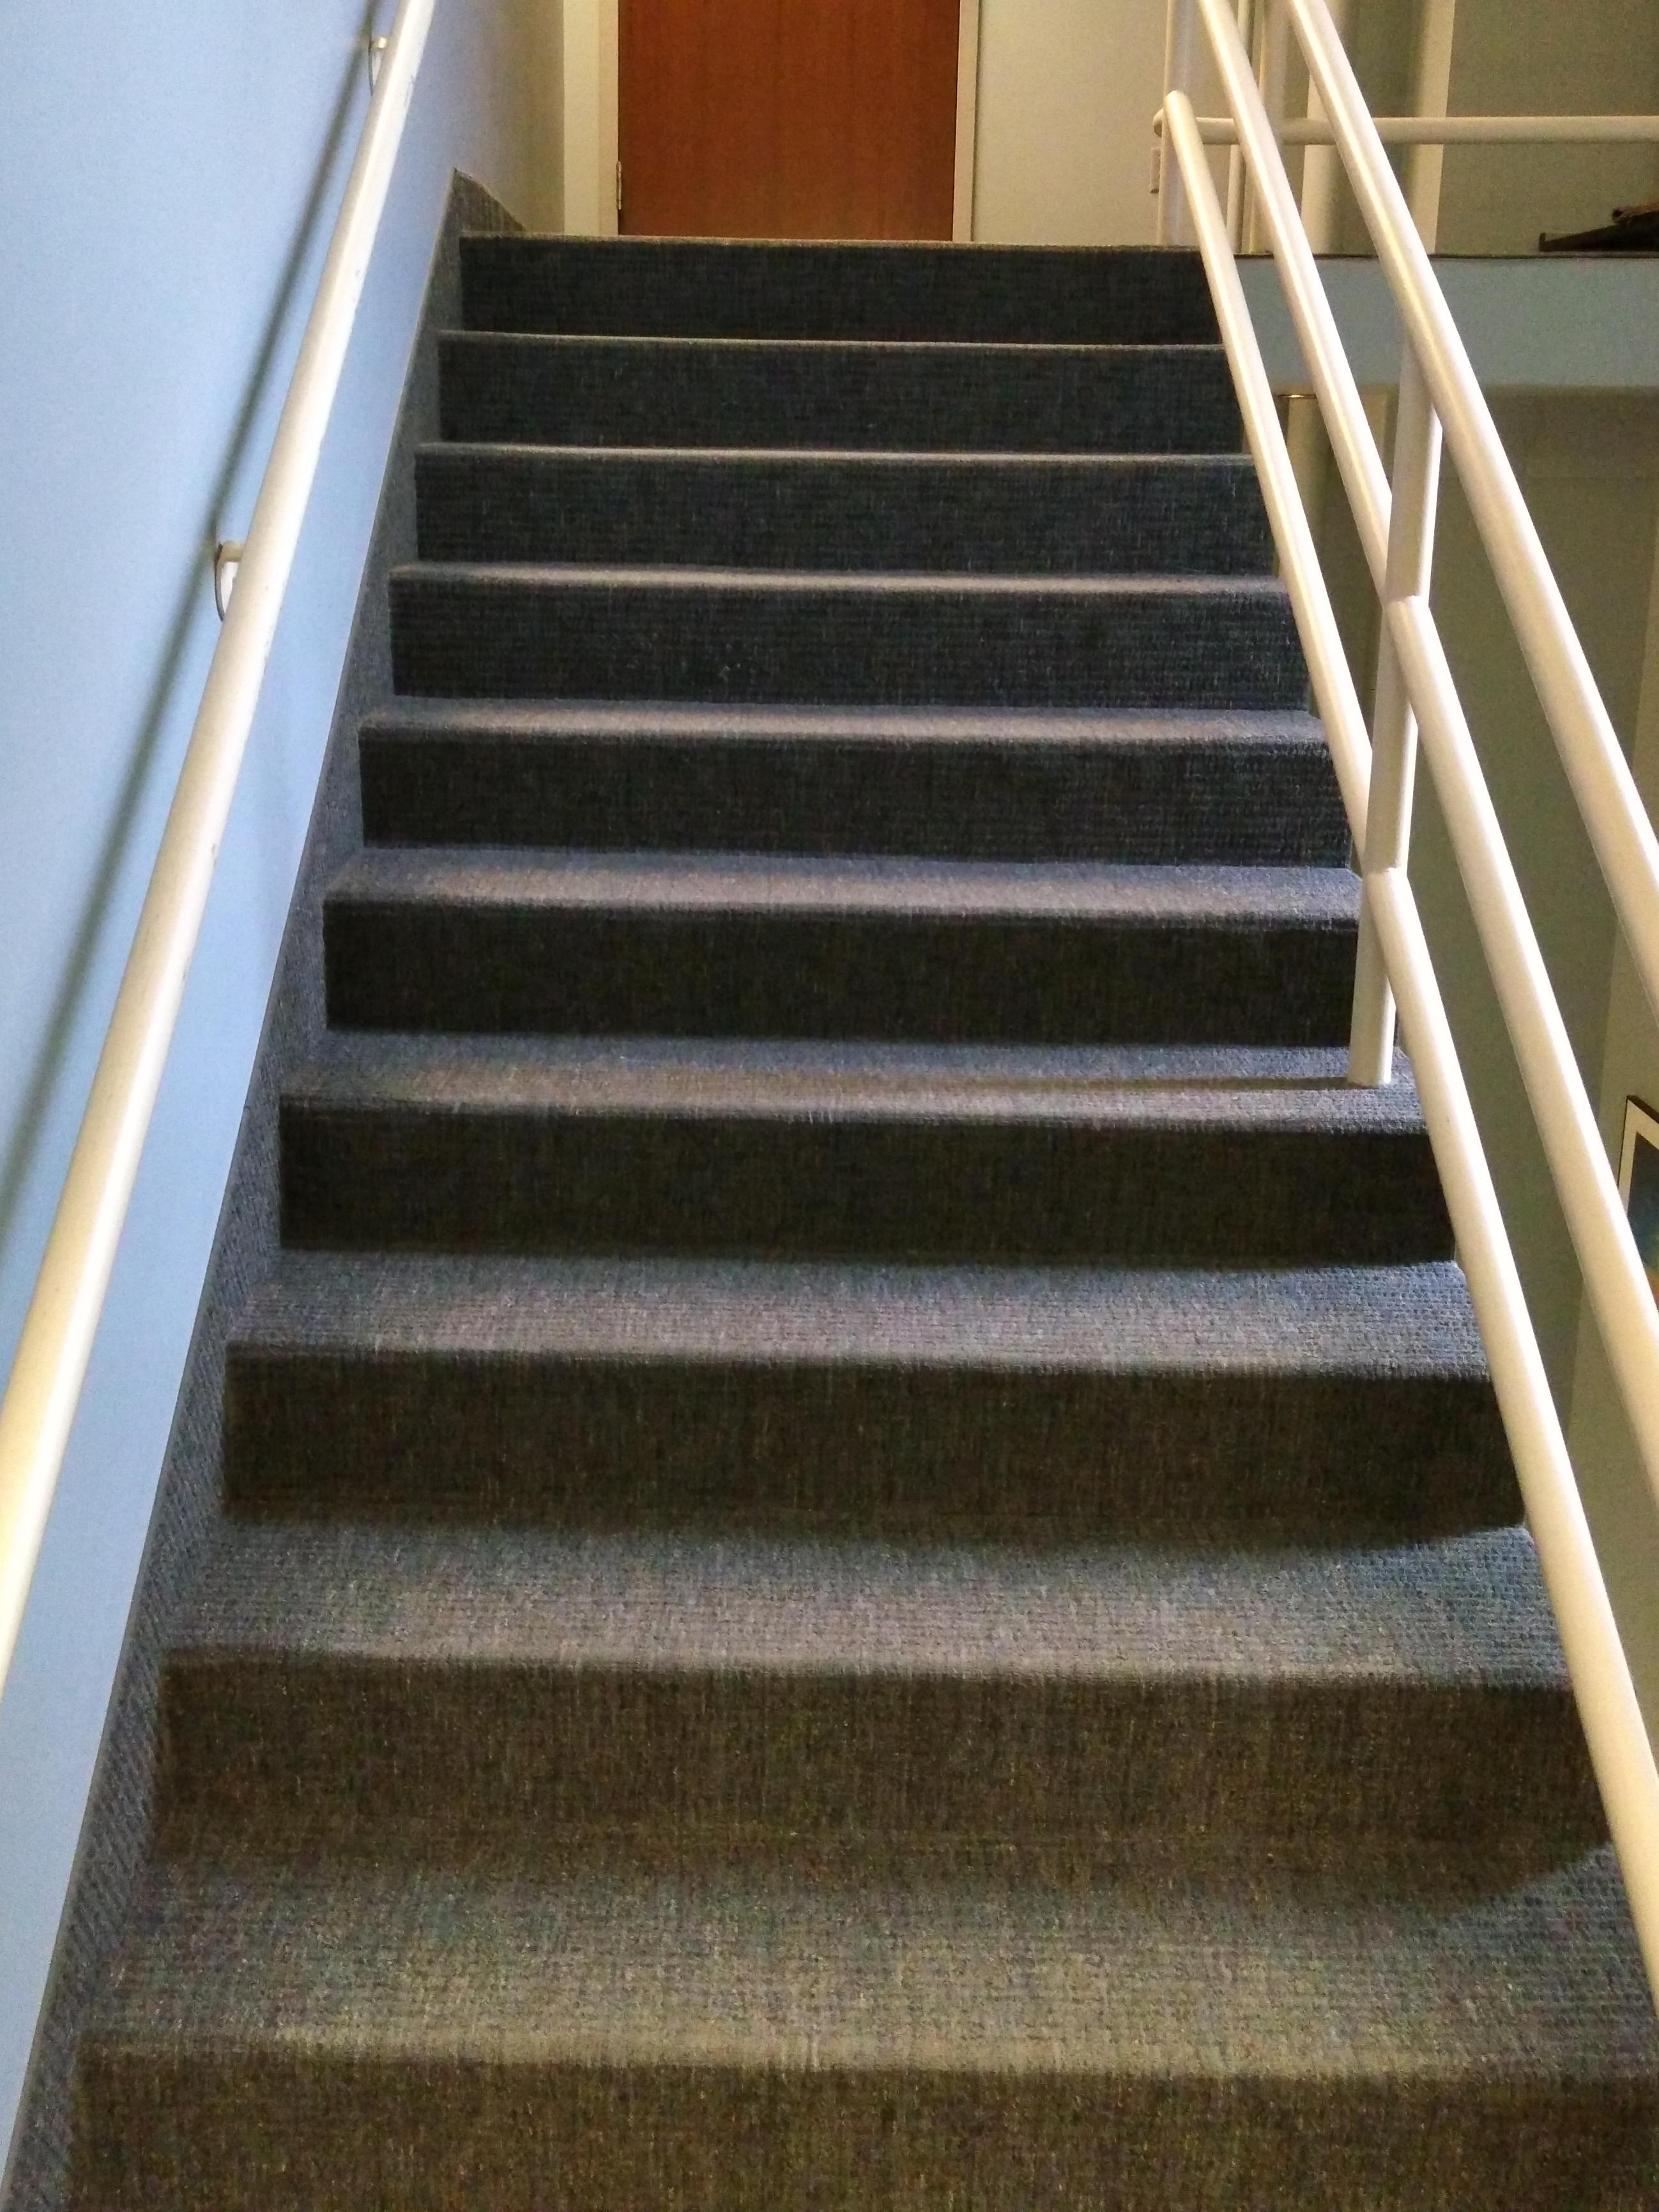stairs_up: (99, 122, 1650, 2168)
